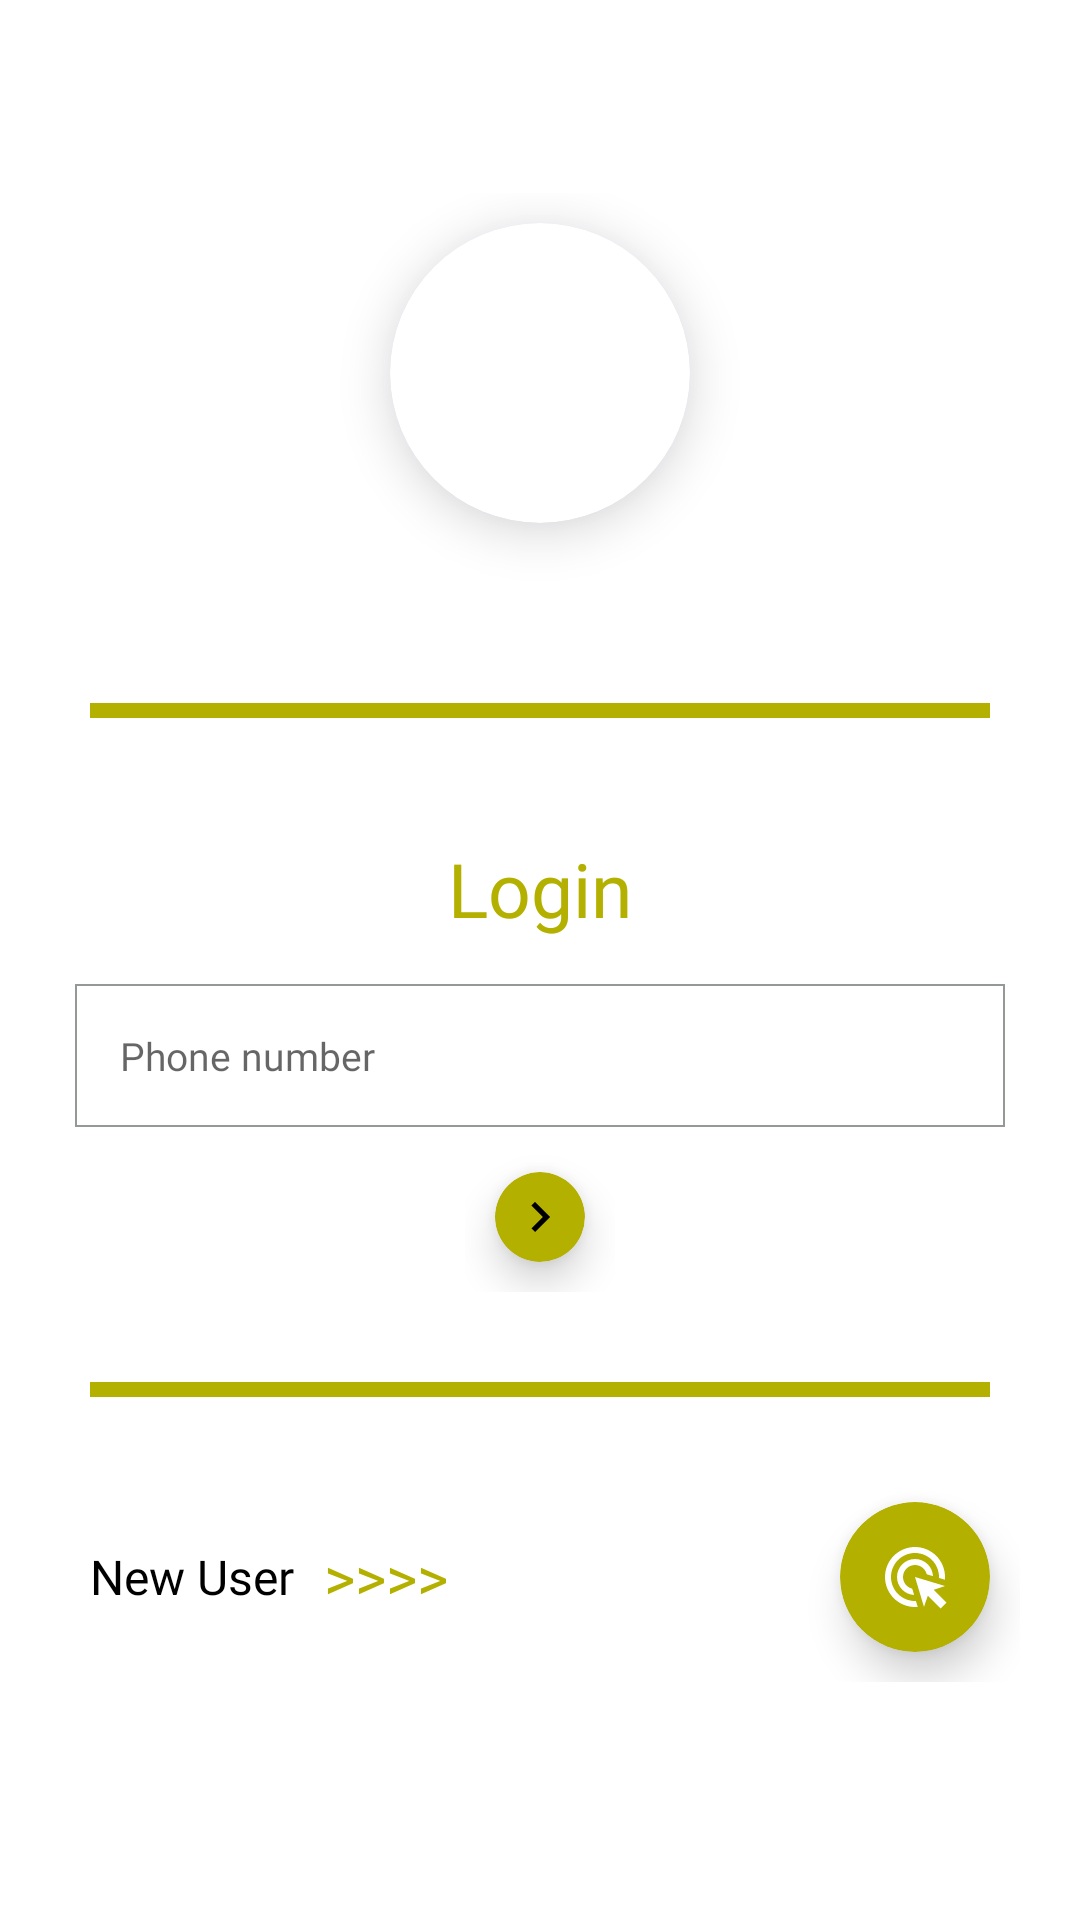

Where to tap for icons on this 1080 × 1920 app screen, as (x=x, y=y):
ads click: (x=915, y=1577)
navigate next: (x=540, y=1217)
